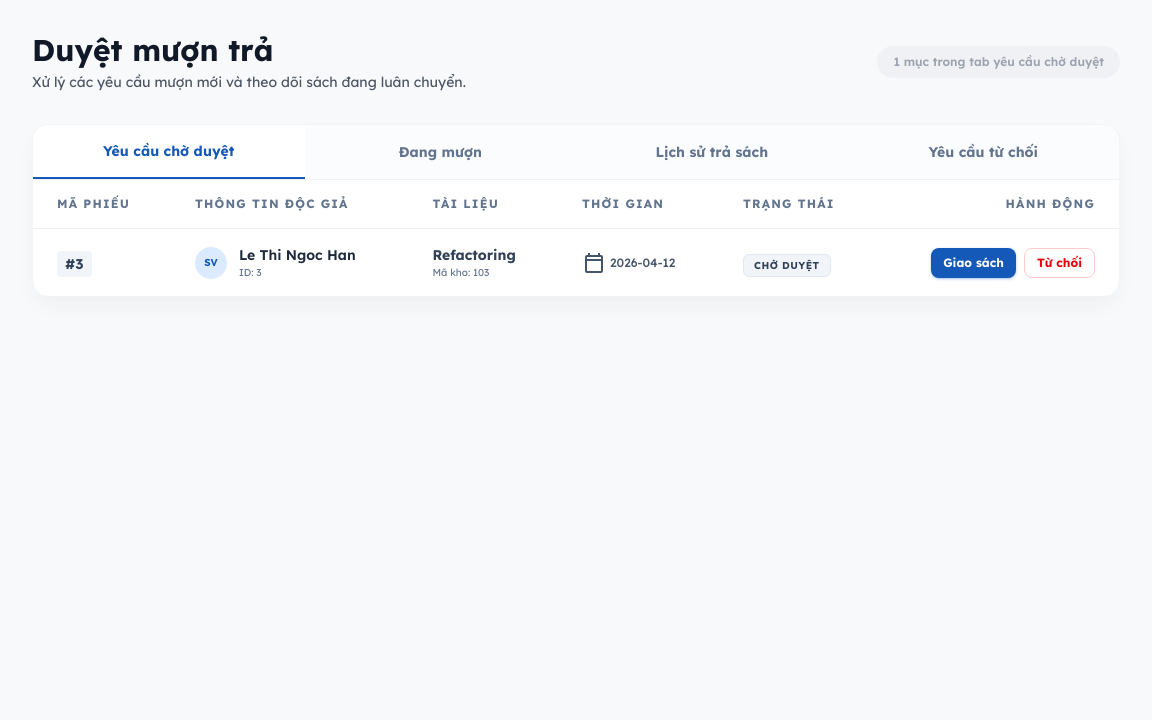
Test case: AdminRequests › rejects a pending request with a visible reason
This screenshot has width=1152, height=720.
expect the text "Chờ duyệt" is shown: met, box [743,254,831,276]
Click the button "Từ chối" at (1059, 262), box [1024,248,1095,278]
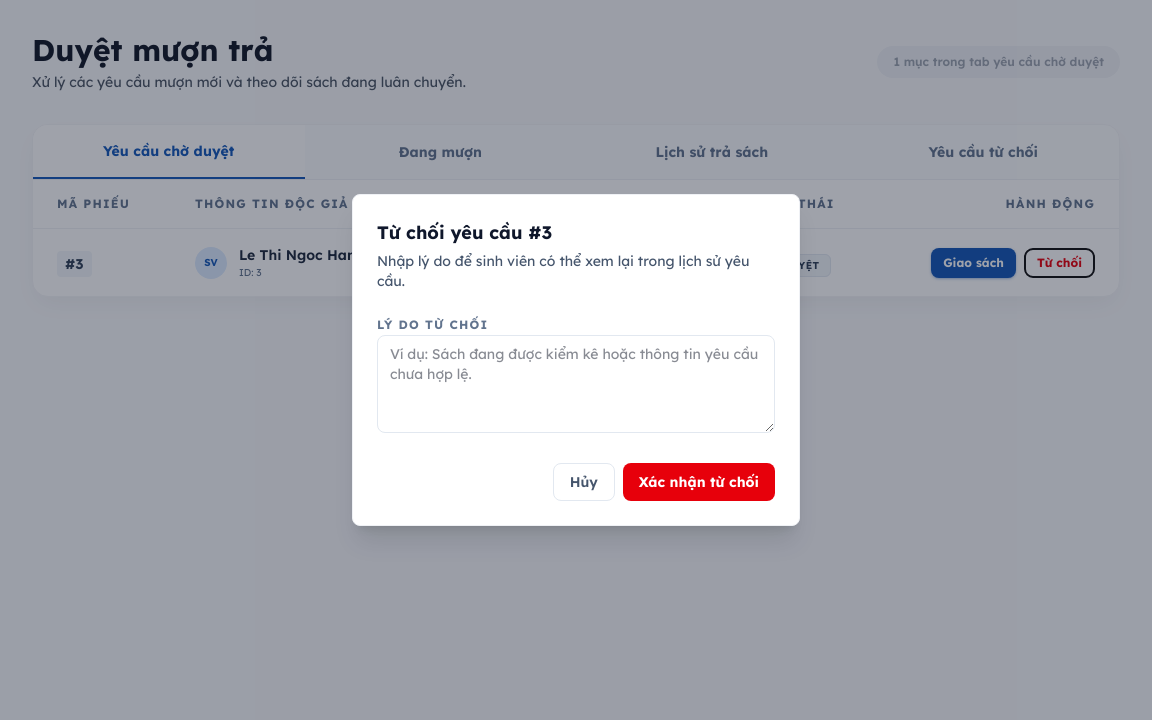
Type "Sách đang kiểm kê" into the text box labelled "Lý do từ chối" at (576, 384), box [377,335,775,433]
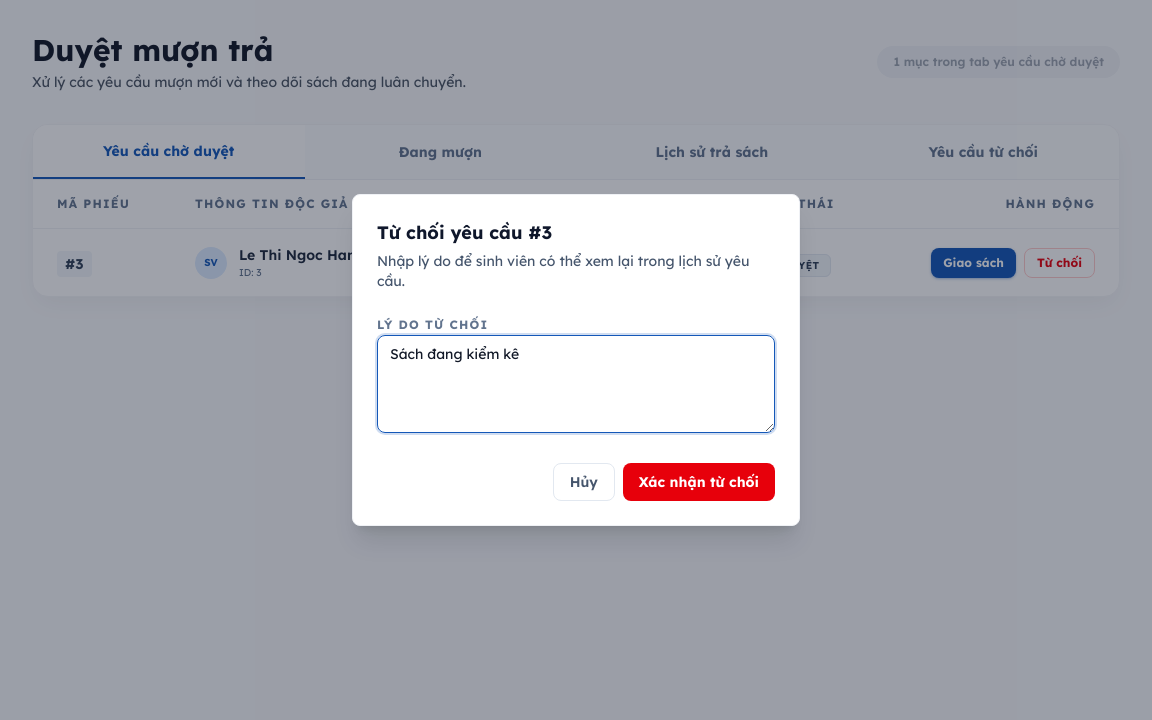
Click the button "Xác nhận từ chối" at (699, 482), box [623,463,775,501]
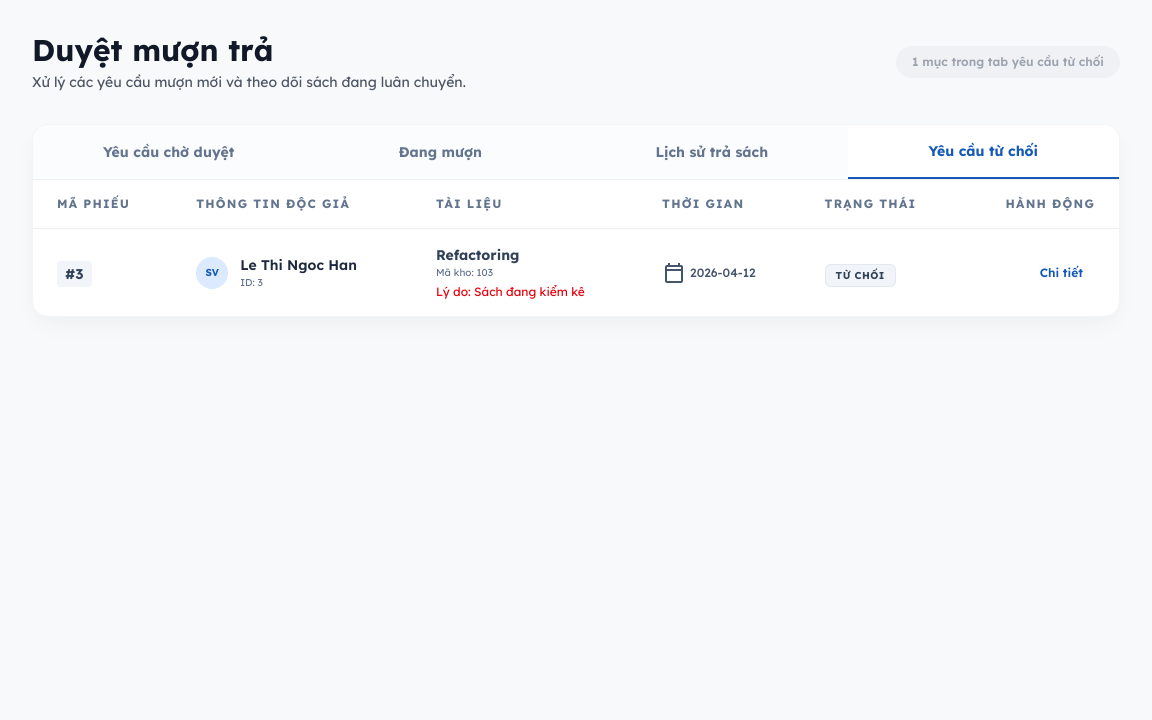
expect the text "Lý do: Sách đang kiểm kê" is shown: met, box [436,284,585,299]
